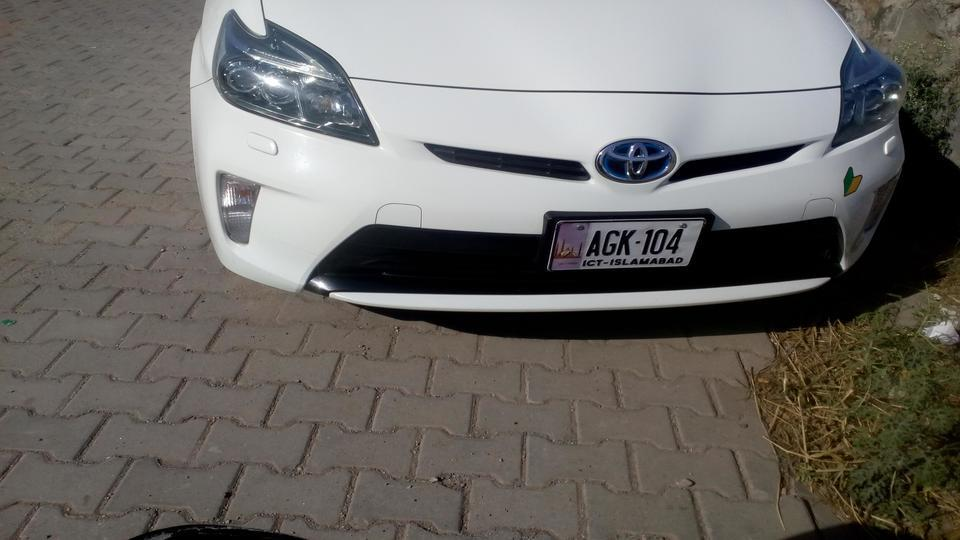NumberPlate: (550, 222, 703, 269)
